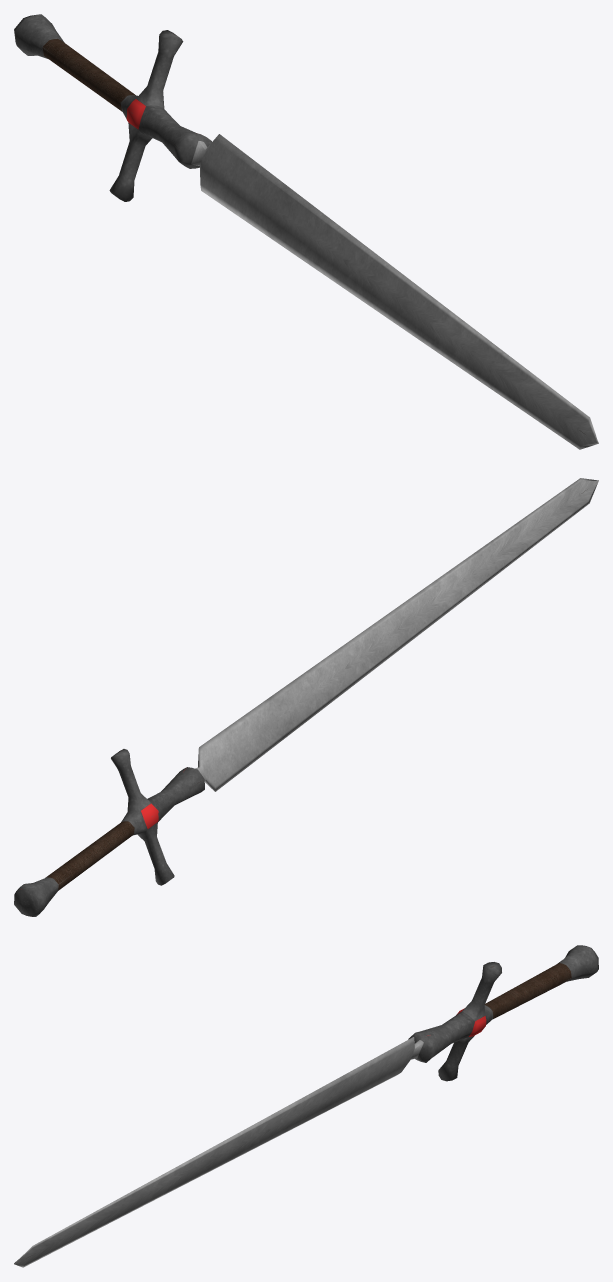
File: swordunity.fbx
3 renders of one model, top to bottom at view 1: azimuth 30°, elevation 25°; view 2: azimuth 150°, elevation 25°; view 3: azimuth 330°, elevation 25°, orthographic. The views are drawn at different scales.
Visible parts, largest first — view 1: swordfin; view 2: swordfin; view 3: swordfin.
Boxes of the visible parts, x1=… form: swordfin: x1=14, y1=14, x2=598, y2=449; swordfin: x1=14, y1=478, x2=598, y2=916; swordfin: x1=14, y1=945, x2=598, y2=1267.
Bounding box in the file's own units: 14.34 × 21.73 × 166.
